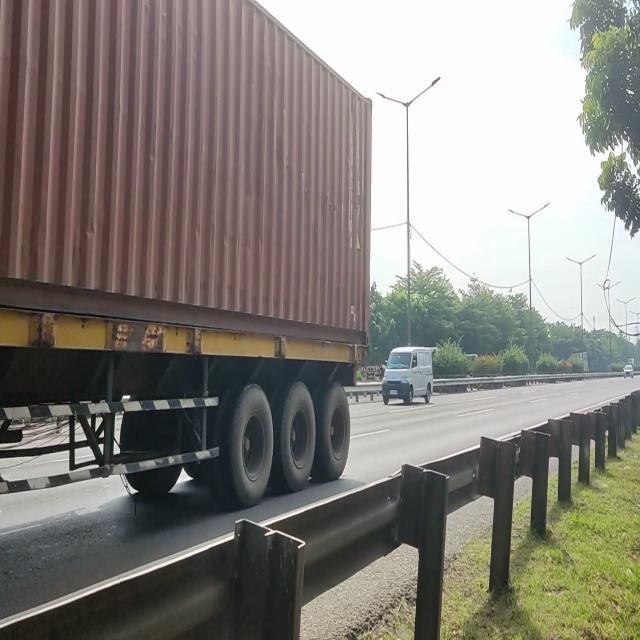Golongan I: (382, 340, 437, 410)
